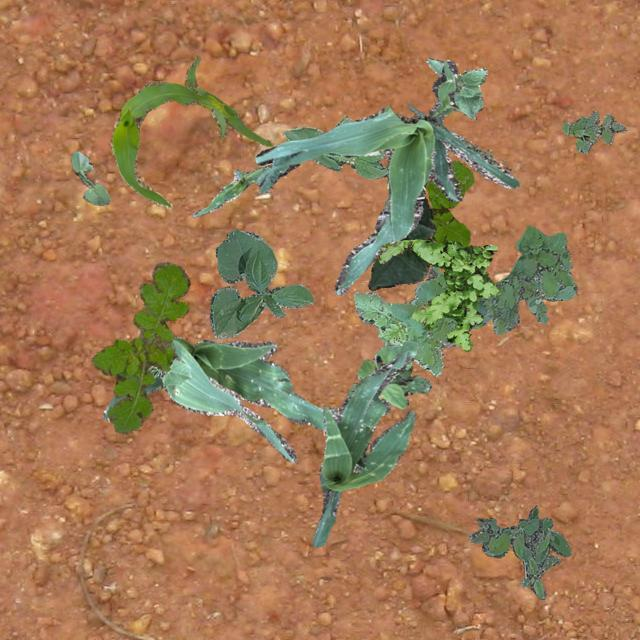crop: (254, 59, 518, 294), (102, 334, 338, 460), (110, 54, 272, 208), (312, 350, 414, 546), (208, 228, 312, 338), (282, 114, 388, 178), (368, 196, 434, 290), (192, 165, 268, 217), (426, 56, 486, 118), (70, 150, 108, 204), (147, 358, 190, 383)
weed: (352, 224, 576, 376), (90, 261, 188, 434), (376, 238, 499, 350), (372, 160, 472, 260), (468, 506, 570, 598), (350, 338, 430, 408), (560, 110, 624, 152)
